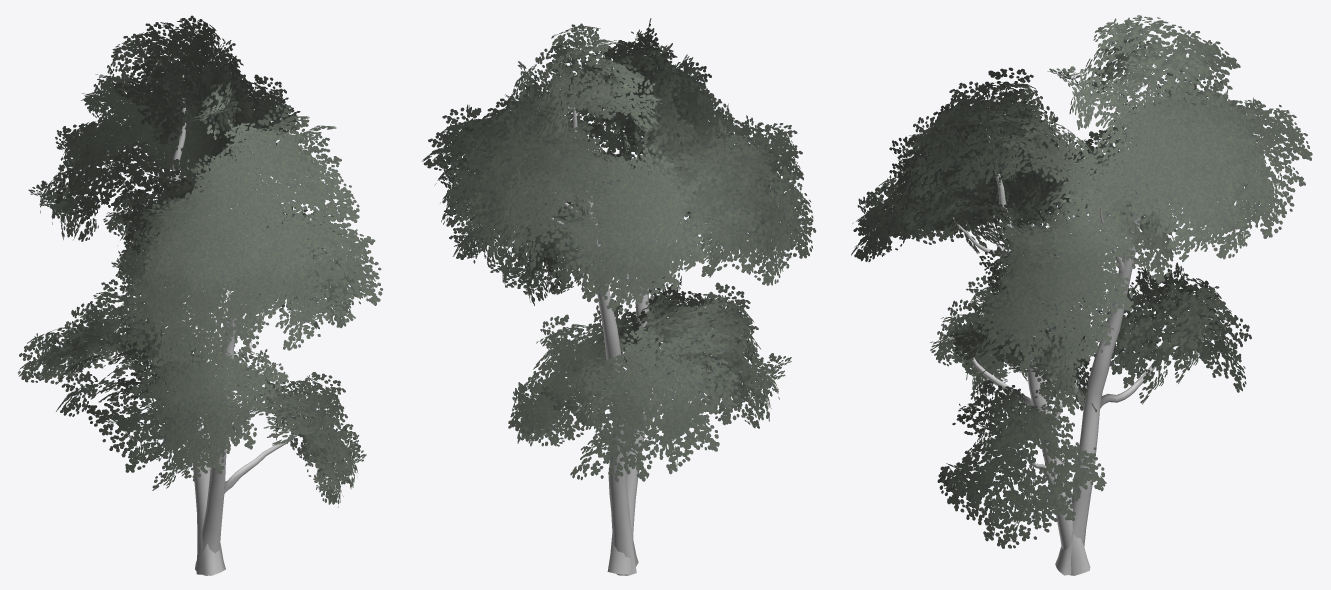
The model's file is SM_Tree_F_01.fbx.
3 renders of one model, left to right at view 1: azimuth 30°, elevation 25°; view 2: azimuth 150°, elevation 25°; view 3: azimuth 270°, elevation 25°, orthographic. The views are drawn at different scales.
Visible parts, largest first — view 1: SM_Tree_F_01_LOD0; view 2: SM_Tree_F_01_LOD0; view 3: SM_Tree_F_01_LOD0.
Part boxes in pixels (x1,y1,x2,y2): SM_Tree_F_01_LOD0: [18, 15, 383, 575]; SM_Tree_F_01_LOD0: [422, 18, 816, 575]; SM_Tree_F_01_LOD0: [851, 15, 1312, 575].
Size of what is drawn, in the model's own units: 7.49 by 13.84 by 10.54.
